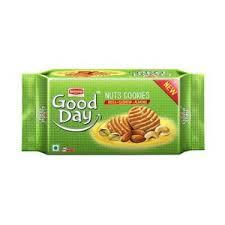VEG: (51, 143, 60, 152)
